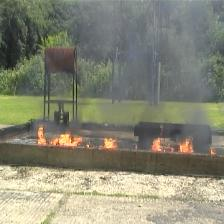fire: (38, 126, 83, 147), (152, 137, 194, 152), (103, 137, 117, 149)
